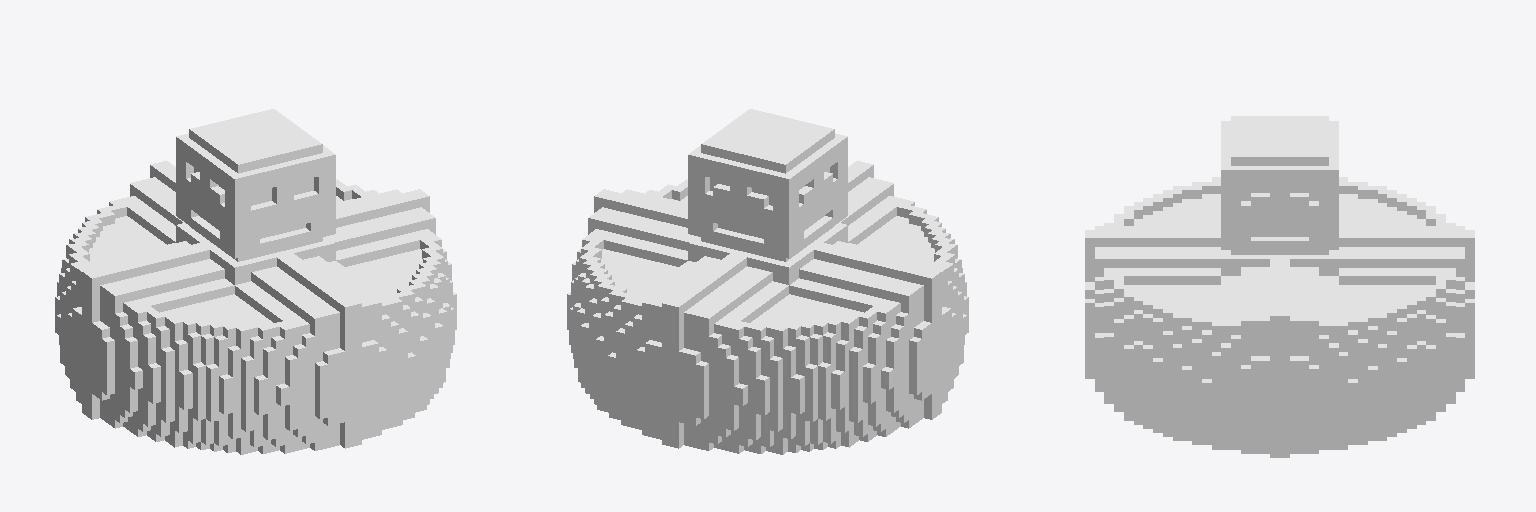
Rendered from PlayerShip1.obj.
3 renders of one model, left to right at view 1: azimuth 30°, elevation 25°; view 2: azimuth 150°, elevation 25°; view 3: azimuth 270°, elevation 25°, orthographic.
Parts seen in each view (by area): view 1: object 1; view 2: object 1; view 3: object 1.
Boxes of the visible parts, x1=… form: object 1: x1=55, y1=109, x2=456, y2=454; object 1: x1=567, y1=109, x2=968, y2=454; object 1: x1=1085, y1=116, x2=1474, y2=457.
Bounding box in the file's own units: 4 × 2.7 × 4.